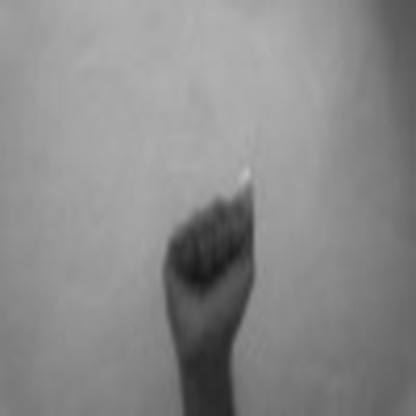a: (154, 157, 264, 349)
